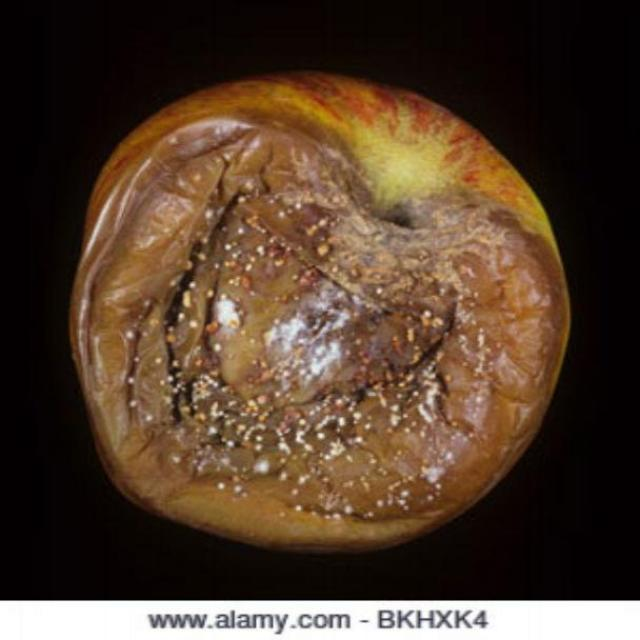ROT: (62, 66, 575, 544)
